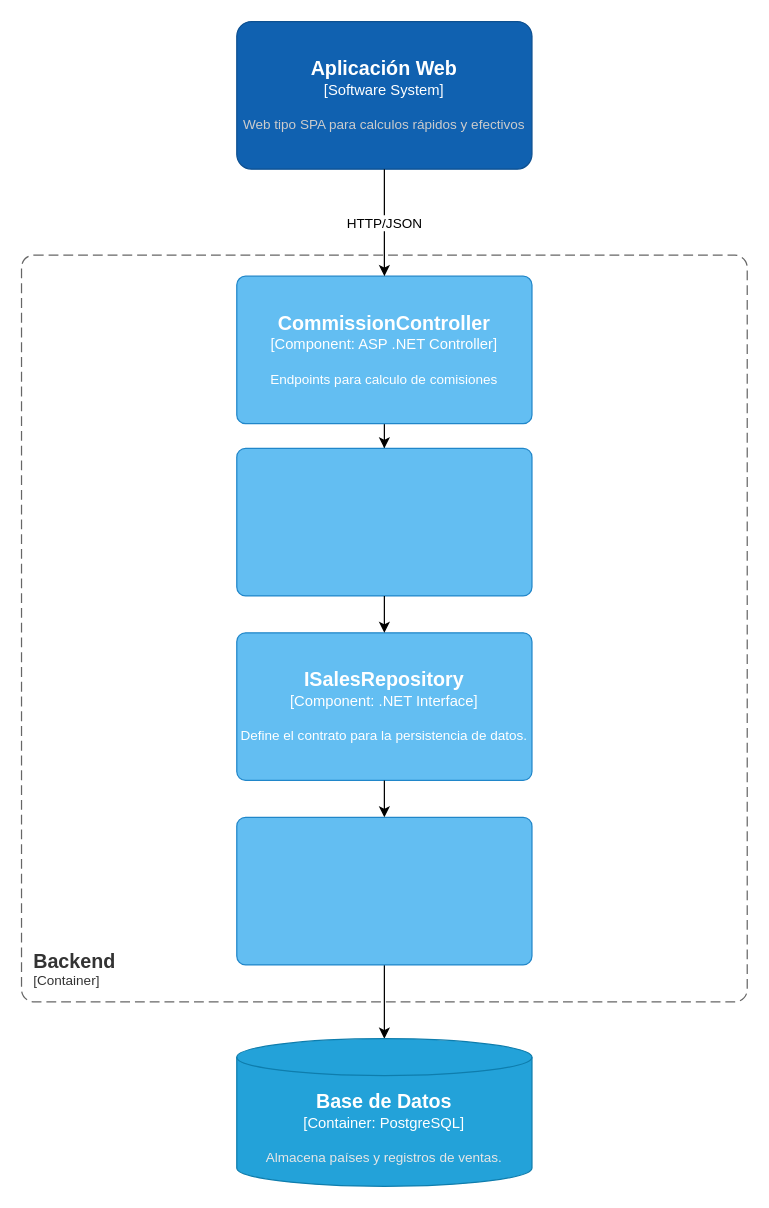
Some shapes in this 769 by 1208 pixel diagram are drawn without their labels. Here are the shapes that lost their labels. From the top down, the box of each, then its label:
(236, 447, 532, 596): CommissionService [Component: .NET Service] Aplica la lógica a los calculos
(236, 816, 532, 965): SalesRepository [Component: EF Core Repository] Consulta tasas y persiste.
